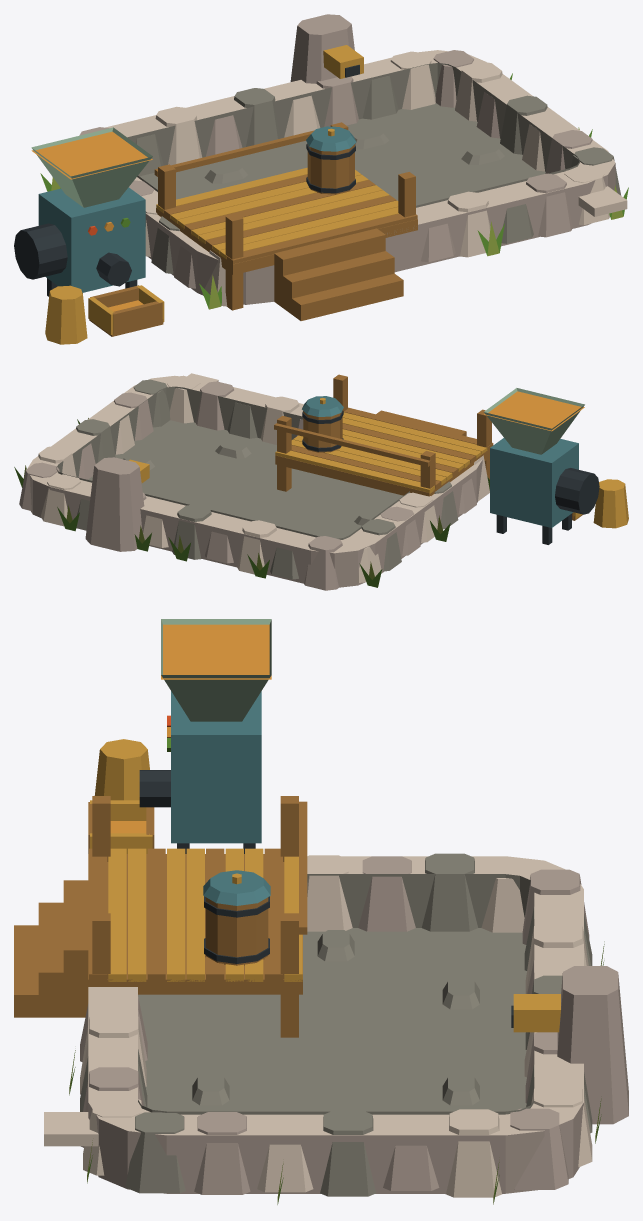
File: FishPond_A_Lv1_Medium.fbx
3 views of the same model, one above another, from view 1: azimuth 30°, elevation 25°; view 2: azimuth 150°, elevation 25°; view 3: azimuth 270°, elevation 25° (orthographic). The views are drawn at different scales.
Visible parts, largest first — view 1: FishPond_A_Lv1_Medium; view 2: FishPond_A_Lv1_Medium; view 3: FishPond_A_Lv1_Medium.
Part boxes in pixels (x1,y1,x2,y2): FishPond_A_Lv1_Medium: (14,14,628,344); FishPond_A_Lv1_Medium: (14,373,628,590); FishPond_A_Lv1_Medium: (14,619,628,1204).
Size of the model in its own units: 11.74 by 2.79 by 7.45.
